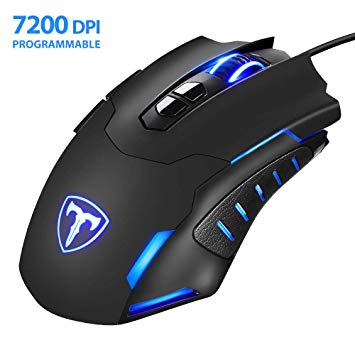Mouse: (5, 28, 345, 329)
